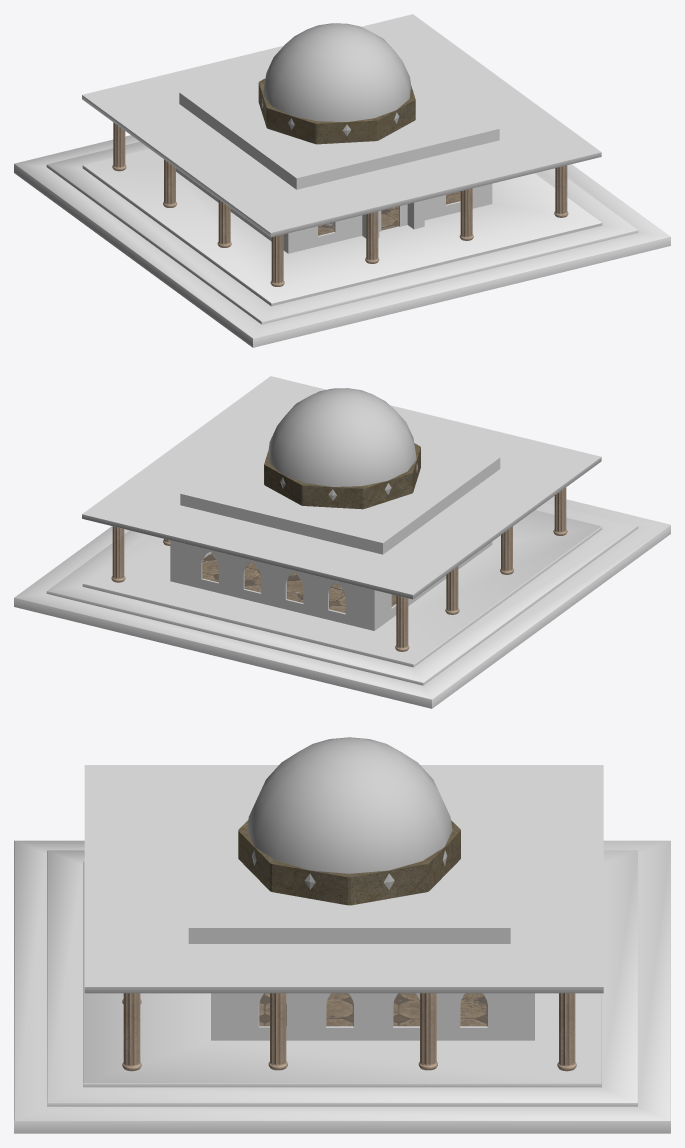
File: Type3_1.fbx
3 views of the same model, one above another, from view 1: azimuth 30°, elevation 25°; view 2: azimuth 150°, elevation 25°; view 3: azimuth 270°, elevation 25° (orthographic). The views are drawn at different scales.
Visible parts, largest first — view 1: Plane.002, Cube.004, Sphere, Cylinder.006, Cylinder.011, Plane.003; view 2: Plane.002, Cube.004, Sphere, Cylinder.011, Cylinder.006, Plane.003; view 3: Plane.002, Cube.004, Sphere, Cylinder.011, Cylinder.006, Plane.003.
Part boxes in pixels (x1,y1,x2,y2): Plane.002: (14, 14, 670, 347); Cube.004: (176, 54, 499, 253); Sphere: (262, 23, 411, 135); Cylinder.006: (112, 122, 568, 286); Cylinder.011: (258, 78, 415, 144); Plane.003: (318, 191, 460, 235); Plane.002: (14, 376, 670, 708); Cube.004: (170, 419, 500, 630); Sphere: (268, 388, 417, 500); Cylinder.011: (264, 443, 420, 509); Cylinder.006: (111, 487, 567, 651); Plane.003: (202, 553, 396, 613); Plane.002: (14, 765, 670, 1133); Cube.004: (188, 792, 534, 1040); Sphere: (247, 737, 452, 889); Cylinder.011: (238, 820, 460, 905); Cylinder.006: (122, 993, 576, 1071); Plane.003: (259, 993, 487, 1026).
Bounding box in the file's own units: 4096 × 1669 × 4056.
